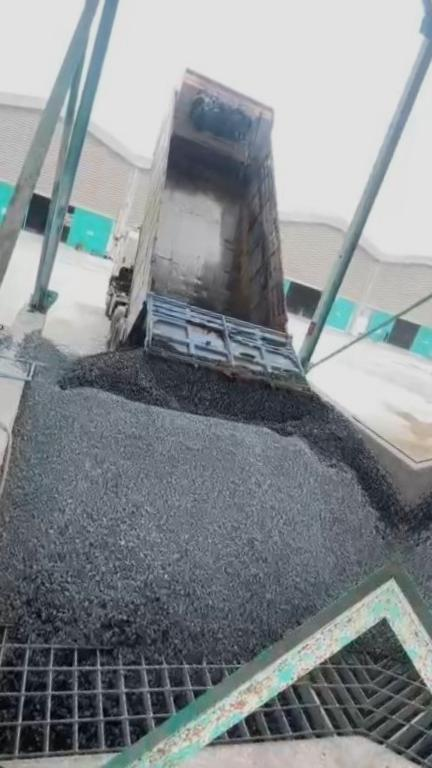gravel: (0, 316, 406, 662), (225, 205, 248, 318), (330, 618, 384, 663)
sand: (399, 412, 425, 461)
